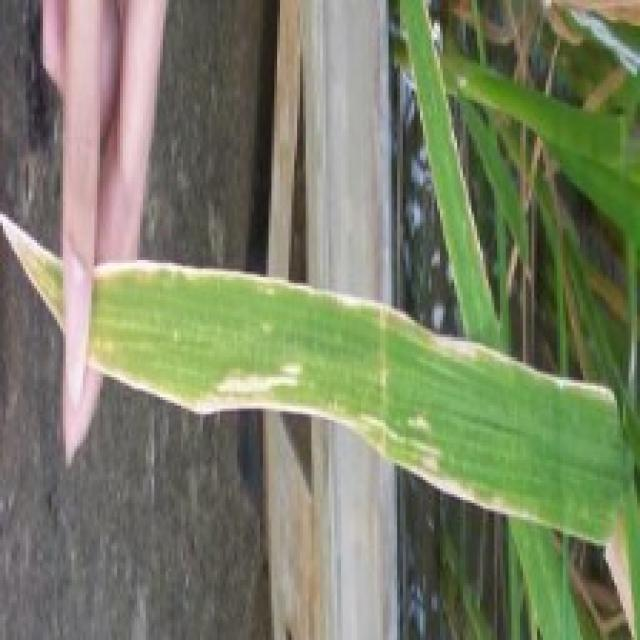Rice___Bacterial_Leaf_Blight: (0, 207, 637, 637)
